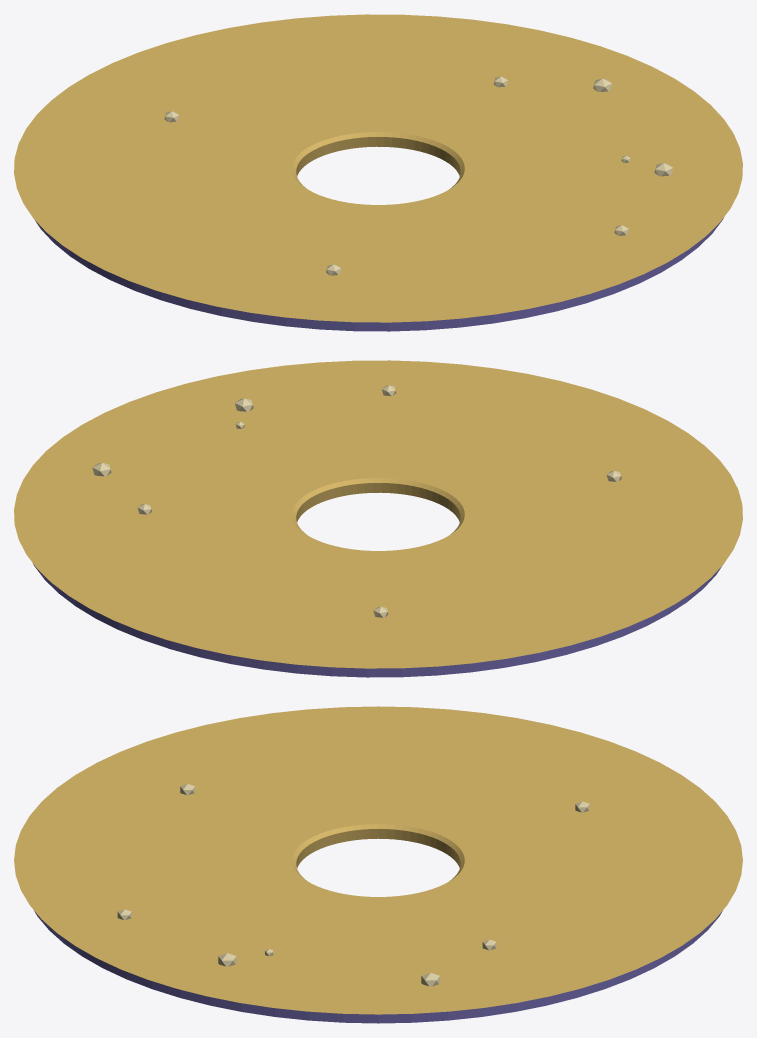
File: goo_jar_deck_2@starlight.fbx
3 renders of one model, top to bottom at view 1: azimuth 30°, elevation 25°; view 2: azimuth 150°, elevation 25°; view 3: azimuth 270°, elevation 25°, orthographic.
Visible parts, largest first — view 1: goo_jar_deck_2; view 2: goo_jar_deck_2; view 3: goo_jar_deck_2.
Boxes of the visible parts, <box> form: goo_jar_deck_2: <box>14,14,742,331</box>; goo_jar_deck_2: <box>14,360,742,677</box>; goo_jar_deck_2: <box>14,706,742,1023</box>.
Bounding box in the file's own units: 53.2 × 1.84 × 53.2.
